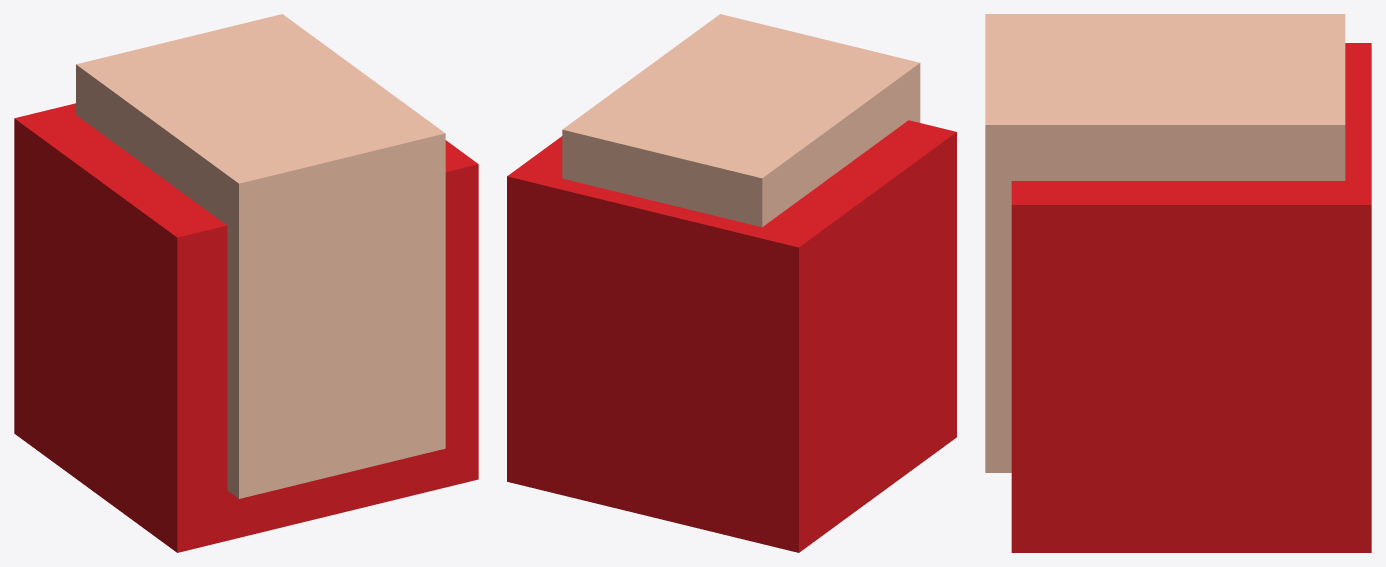
The model's file is red_body.obj.
The picture shows the model from 3 angles, left to right: view 1: azimuth 30°, elevation 25°; view 2: azimuth 150°, elevation 25°; view 3: azimuth 270°, elevation 25°; orthographic projection. The views are drawn at different scales.
Parts seen in each view (by area): view 1: red_body:Mesh; view 2: red_body:Mesh; view 3: red_body:Mesh.
Boxes of the visible parts, x1,y1,x2,y2 form: red_body:Mesh: (14,14,478,552); red_body:Mesh: (507,14,956,552); red_body:Mesh: (985,14,1371,552).
Bounding box in the file's own units: 1.6 × 1.86 × 1.61.
Materials: 1 (1 with a texture image).
